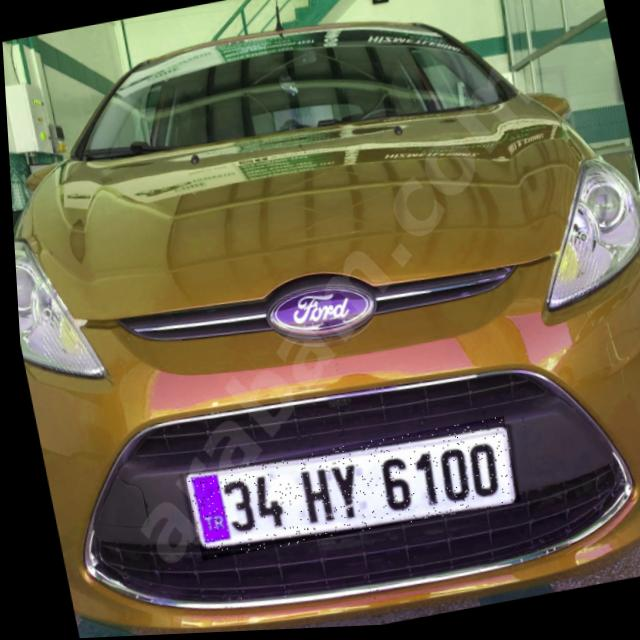license_plate: (177, 420, 516, 563)
